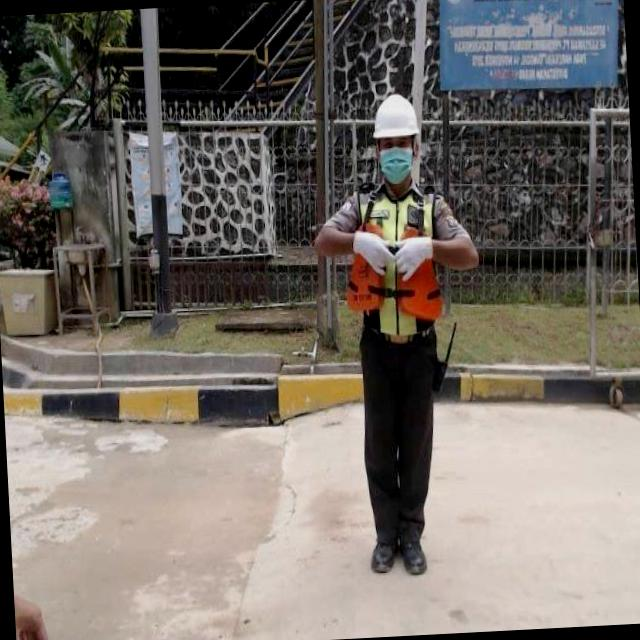vest: (342, 186, 441, 340)
